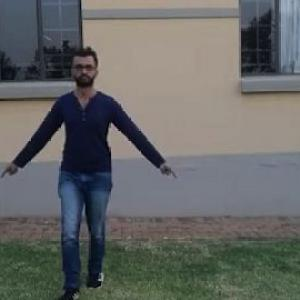land: (14, 63, 156, 261)
